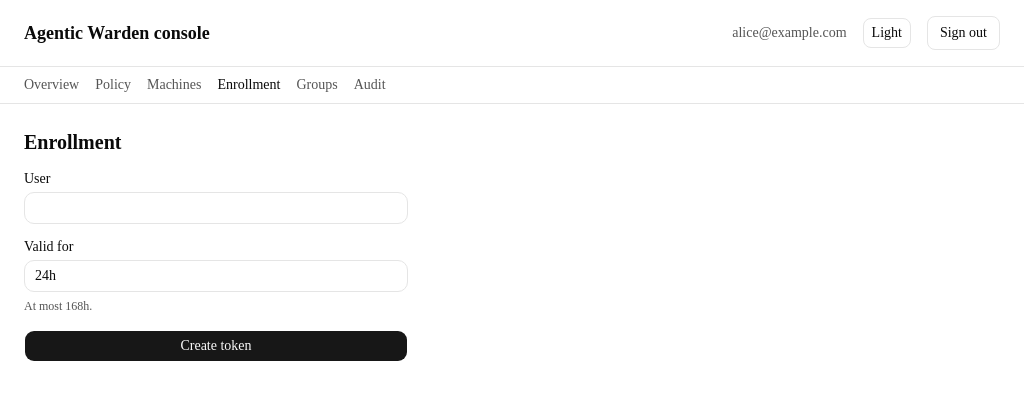
server validation errors are shown
The image size is (1024, 414).
Type "dan@example.com" into the field labelled "User". click: (216, 208)
box: [24,192,408,224]
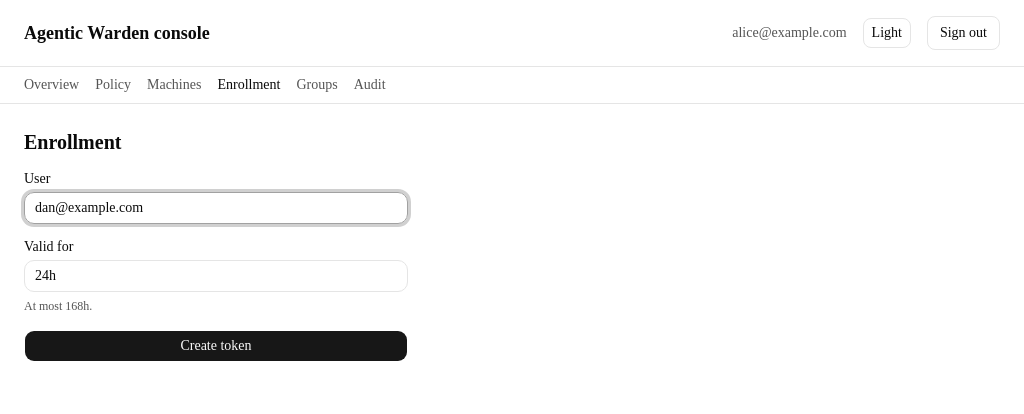
Click the button "Create token". click: (216, 346)
box: [24,330,408,362]
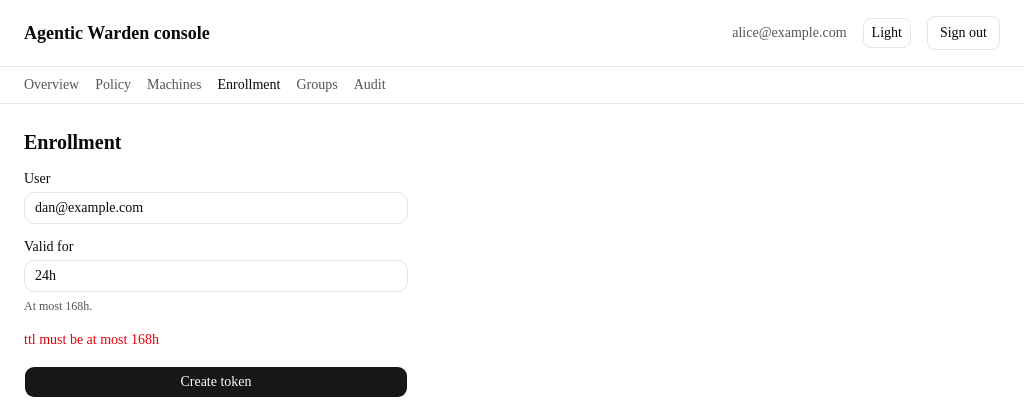
Expected: the message reads "ttl must be at most 168h", [24,332,159,347]
